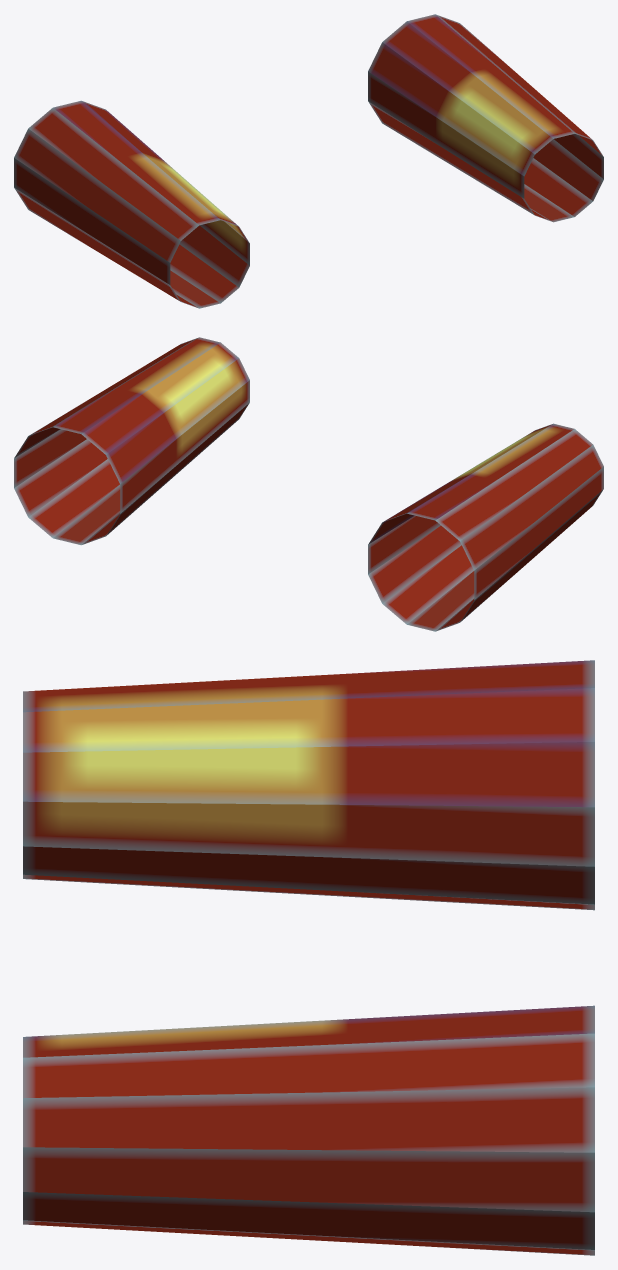
The model's file is Pushki.obj.
3 views of the same model, one above another, from view 1: azimuth 30°, elevation 25°; view 2: azimuth 150°, elevation 25°; view 3: azimuth 270°, elevation 25° (orthographic). The views are drawn at different scales.
Visible parts, largest first — view 1: cylinder; view 2: cylinder; view 3: cylinder.
Boxes of the visible parts, x1=… form: cylinder: x1=14, y1=14, x2=603, y2=308; cylinder: x1=14, y1=337, x2=603, y2=631; cylinder: x1=23, y1=660, x2=594, y2=1255.
Bounding box in the file's own units: 0.0812 × 0.0188 × 0.0437.
1 material, 1 textured.
